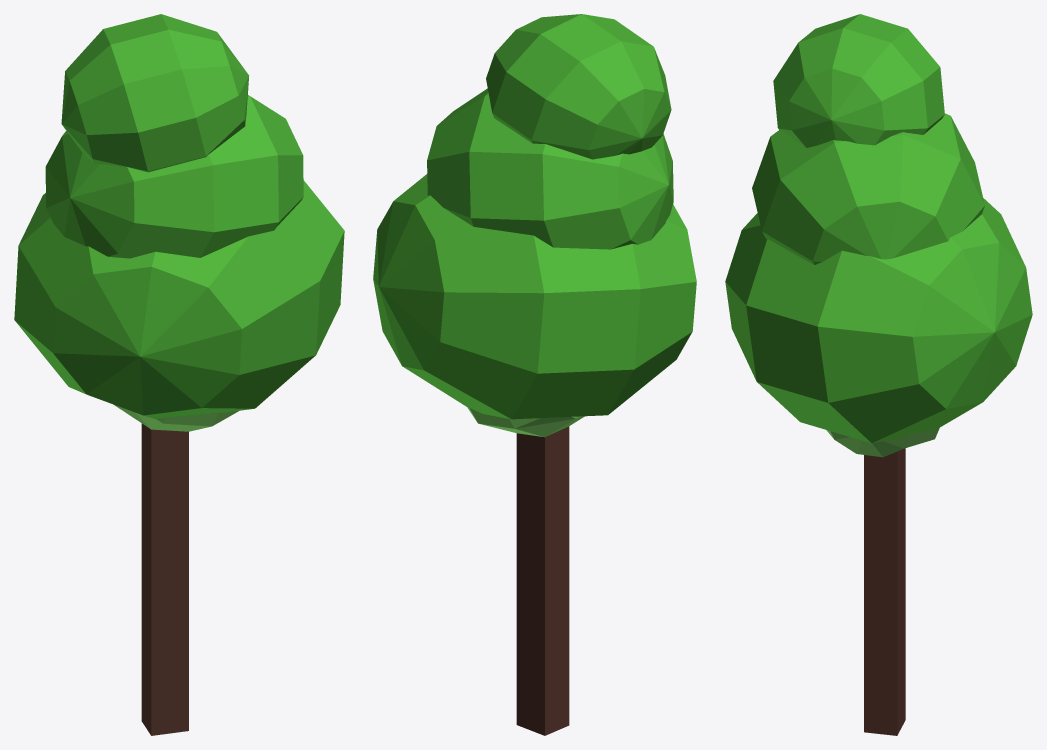
The model's file is tree.glb.
3 views of the same model, side by side, from view 1: azimuth 30°, elevation 25°; view 2: azimuth 150°, elevation 25°; view 3: azimuth 270°, elevation 25° (orthographic). The views are drawn at different scales.
Visible parts, largest first — view 1: Shop.002; view 2: Shop.002; view 3: Shop.002.
Part boxes in pixels (x1,y1,x2,y2): Shop.002: (14, 14, 344, 735); Shop.002: (373, 14, 696, 735); Shop.002: (725, 14, 1032, 735).
Bounding box in the file's own units: 0.2011 × 0.4756 × 0.1921.
Materials: 1 (1 with a texture image).
